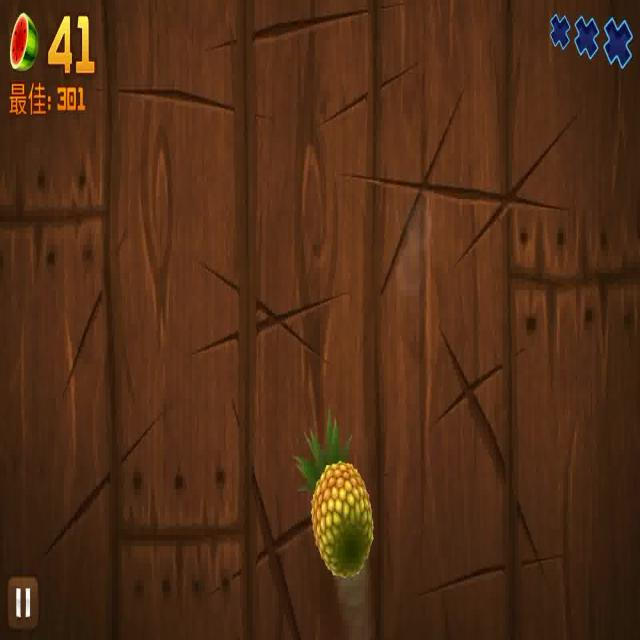fruit: (298, 412, 372, 578)
